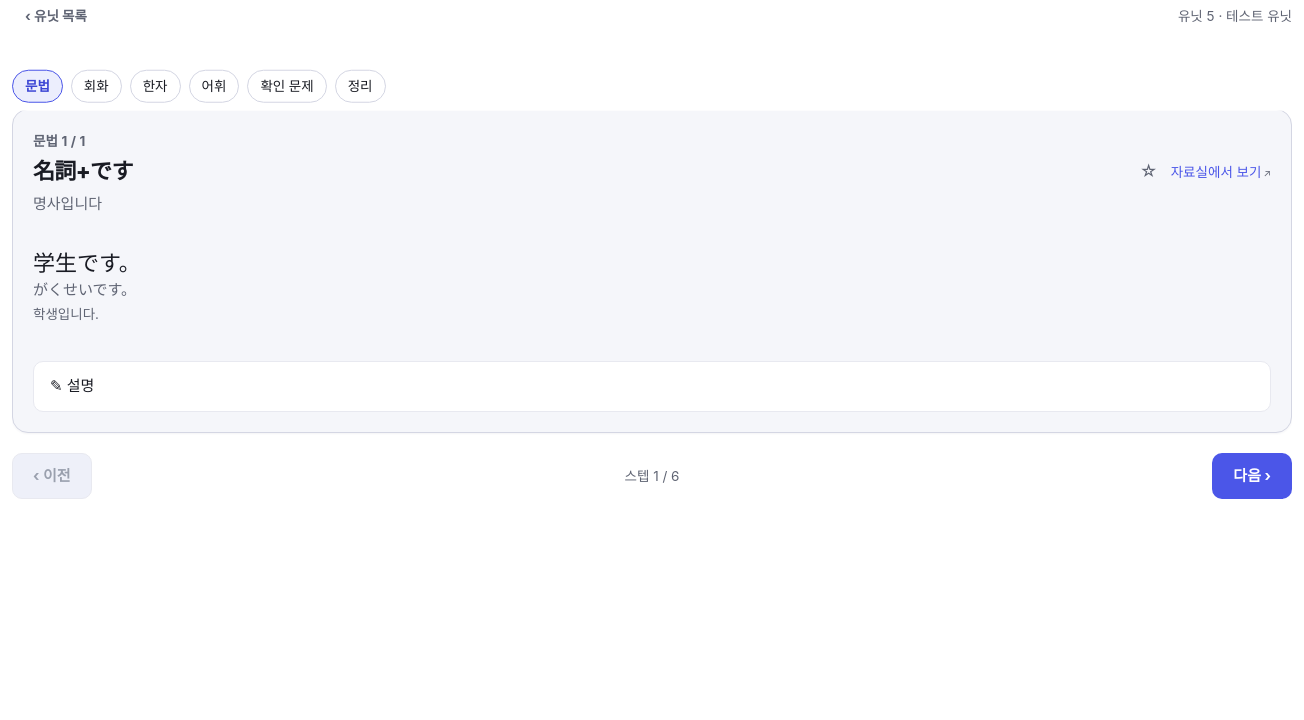
Test: UnitStudyPage — 복습 블록 (설계/04 §2-3 review) › review가 있으면 구간과 문법 명칭을 보여준다
Step 1. Click the button "정리" → (360, 86), box [335, 70, 386, 102]
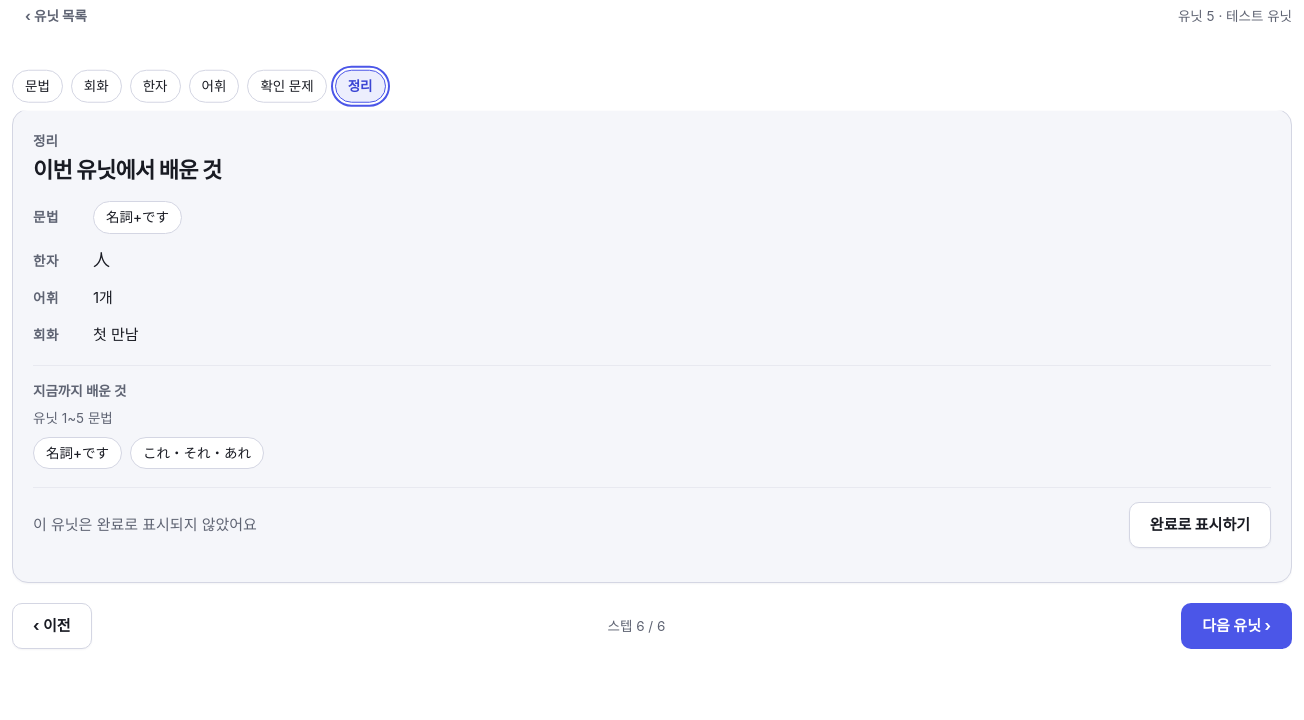
Now the text "지금까지 배운 것" is shown, box [33, 383, 126, 399]
Now the text "유닛 1~5 문법" is shown, box [33, 410, 113, 426]
Now the text "これ・それ・あれ" is shown, box [130, 437, 264, 469]
